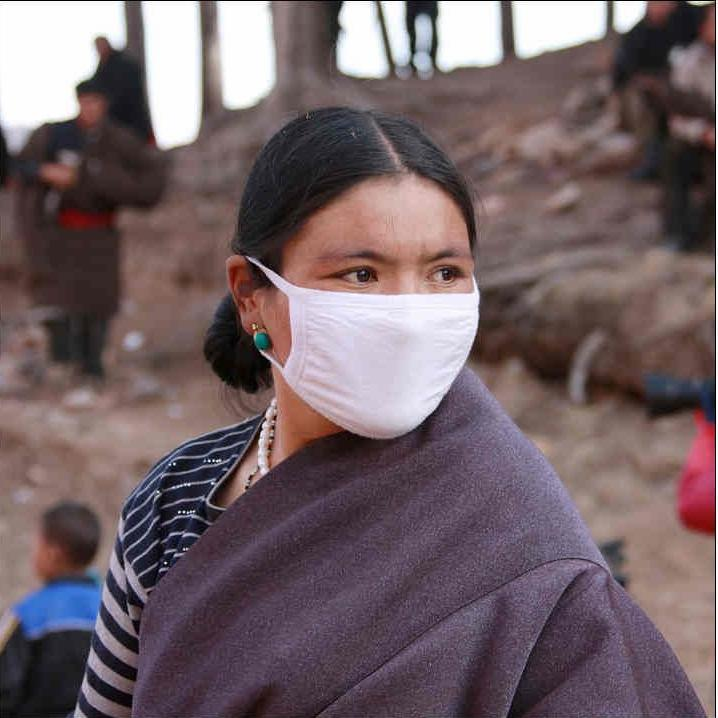face: (78, 92, 103, 122)
face_mask: (269, 180, 477, 429)
